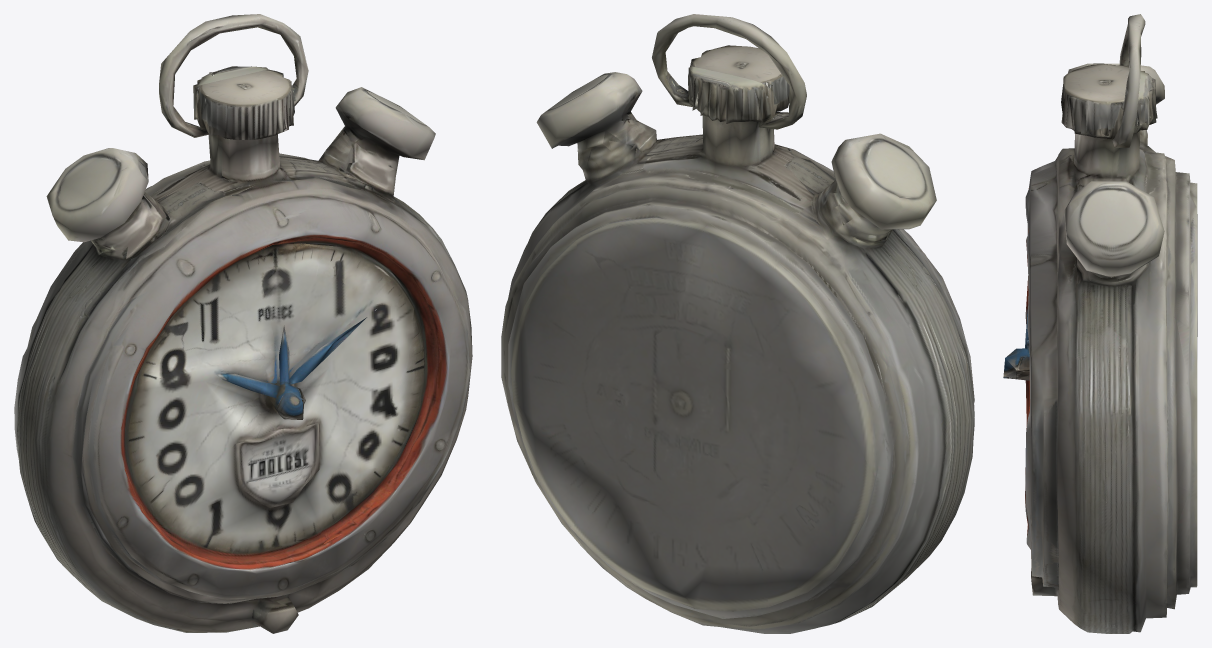
File: fireRate.glb
3 renders of one model, left to right at view 1: azimuth 30°, elevation 25°; view 2: azimuth 150°, elevation 25°; view 3: azimuth 270°, elevation 25°, orthographic. The views are drawn at different scales.
Size of the model in its own units: 1.53 by 2 by 0.6027.
Materials: 1 (1 with a texture image).
